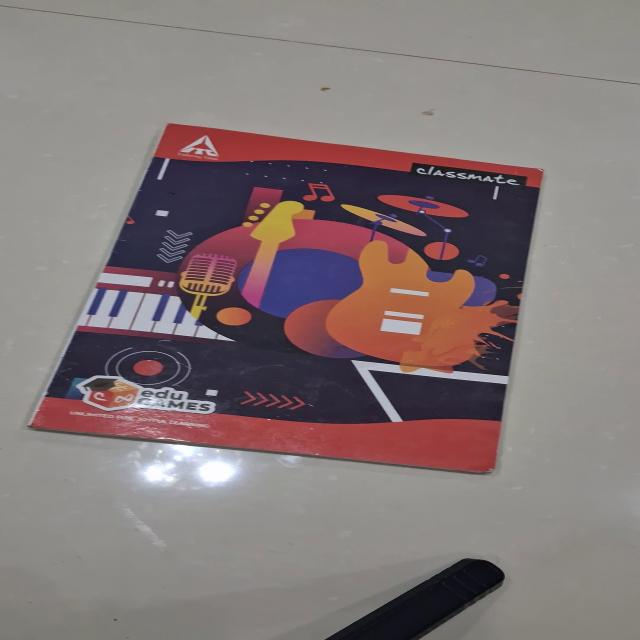paper: (26, 123, 545, 474)
